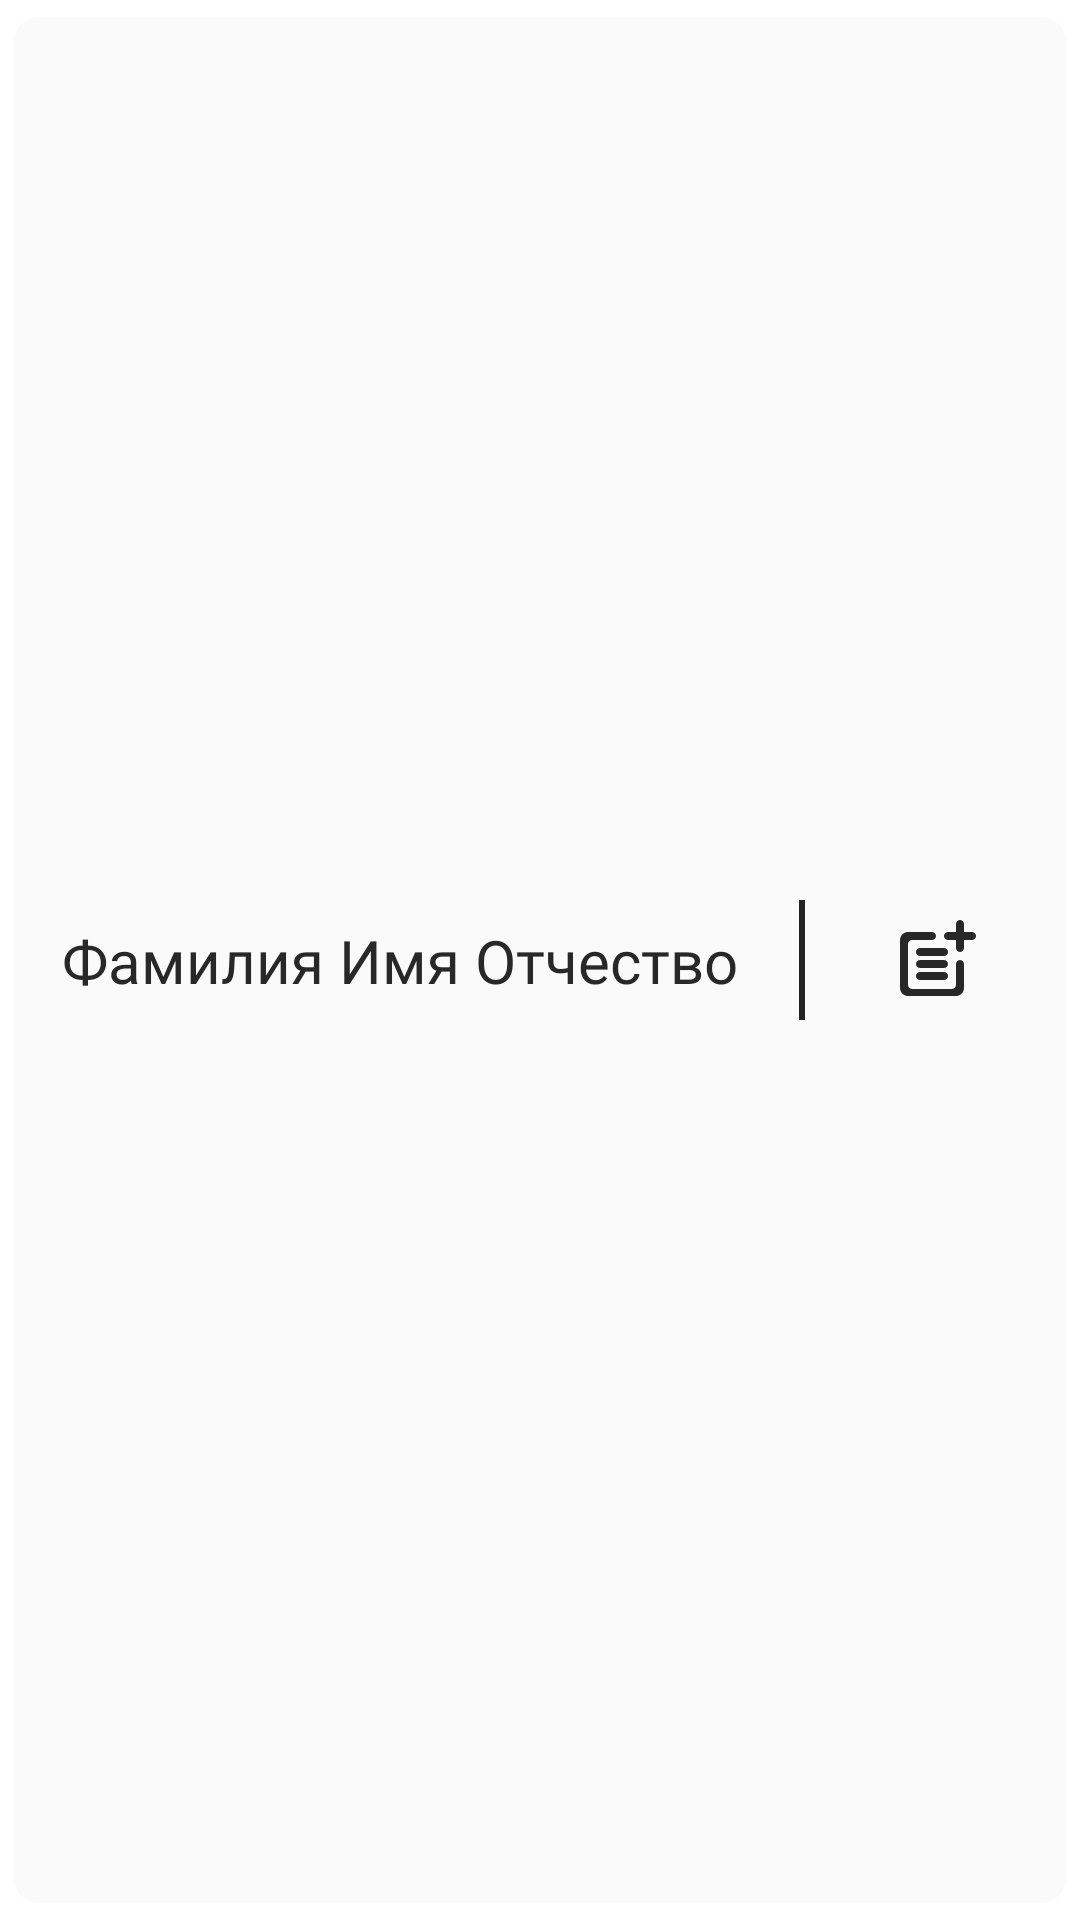

Named icons in this screenshot (1080 × 1920) and their bounding boxes, (x1, y1, x2, y2):
post add: (900, 920, 976, 996)
